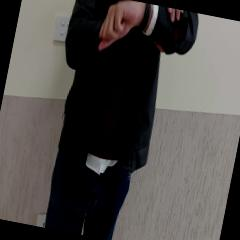not-gloved: (95, 0, 146, 59)
